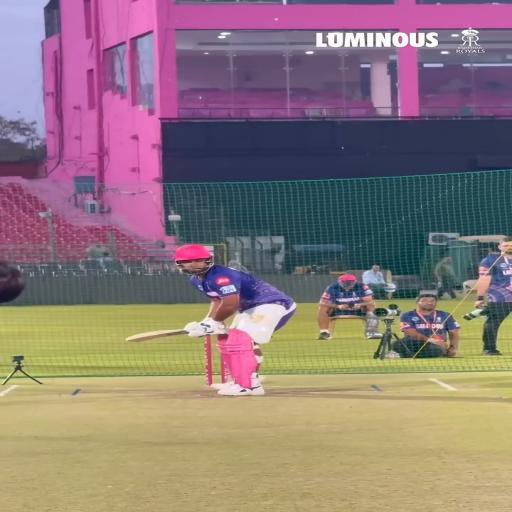Cricket bat: (126, 329, 188, 342)
